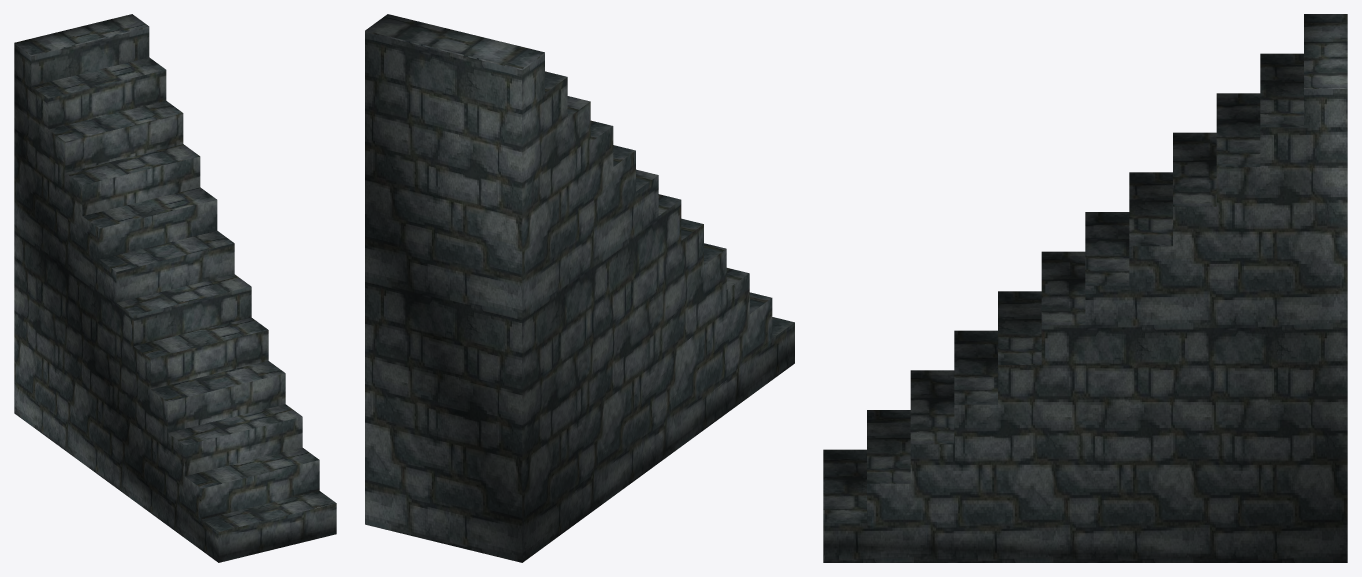
The model's file is dark stone stairs.glb.
The picture shows the model from 3 angles, left to right: view 1: azimuth 30°, elevation 25°; view 2: azimuth 150°, elevation 25°; view 3: azimuth 270°, elevation 25°; orthographic projection. The views are drawn at different scales.
Visible parts, largest first — view 1: Steps; view 2: Steps; view 3: Steps.
Part boxes in pixels (x1,y1,x2,y2): Steps: (14, 14, 336, 562); Steps: (365, 14, 794, 562); Steps: (823, 14, 1347, 562).
Bounding box in the file's own units: 0.9144 × 2.74 × 2.74.
1 material, 1 textured.
